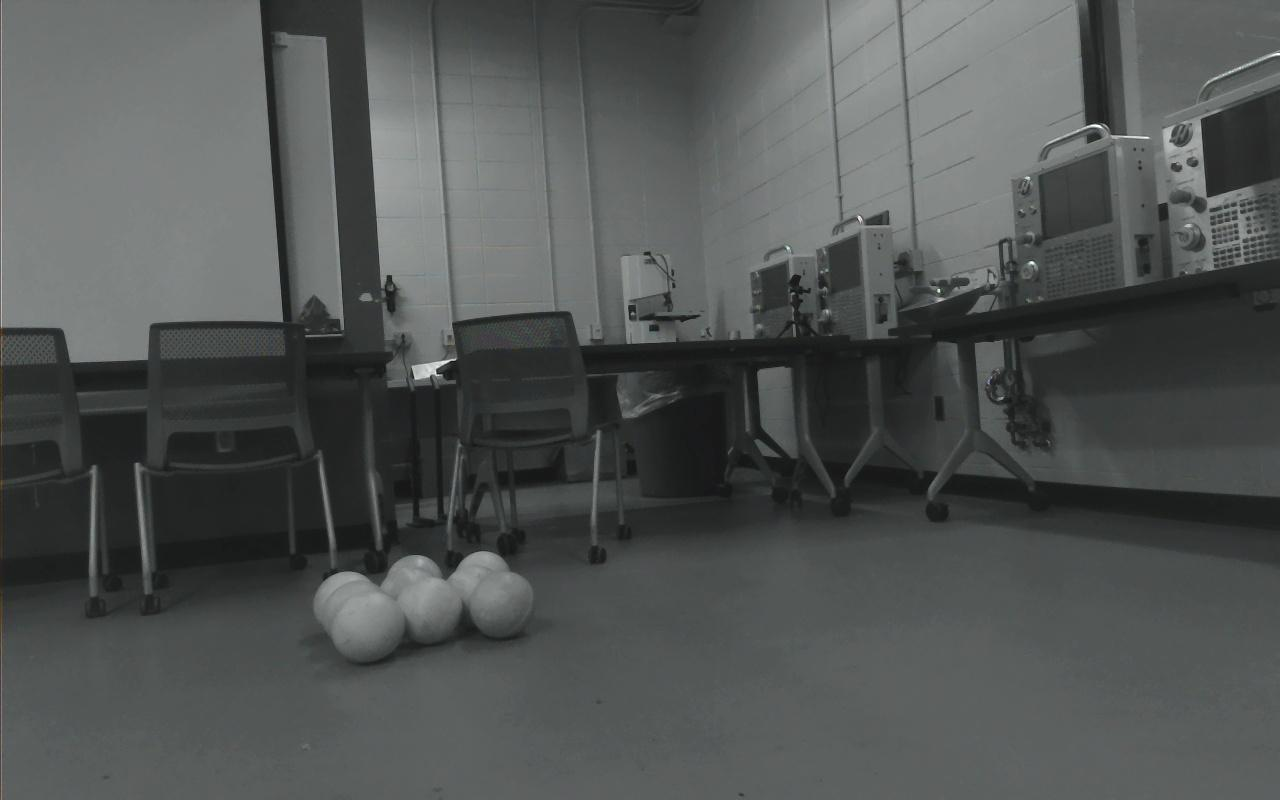Fuel: (330, 591, 404, 663), (468, 570, 534, 638), (397, 577, 463, 644), (320, 581, 384, 643), (380, 566, 440, 627), (314, 572, 372, 630), (444, 563, 498, 625), (387, 555, 445, 609), (457, 551, 512, 605)
